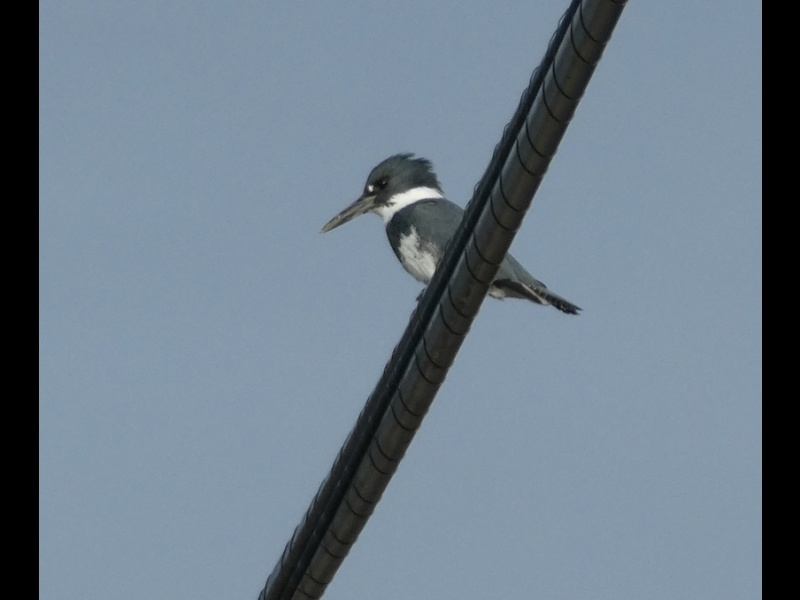kingfisher: (319, 149, 591, 329)
